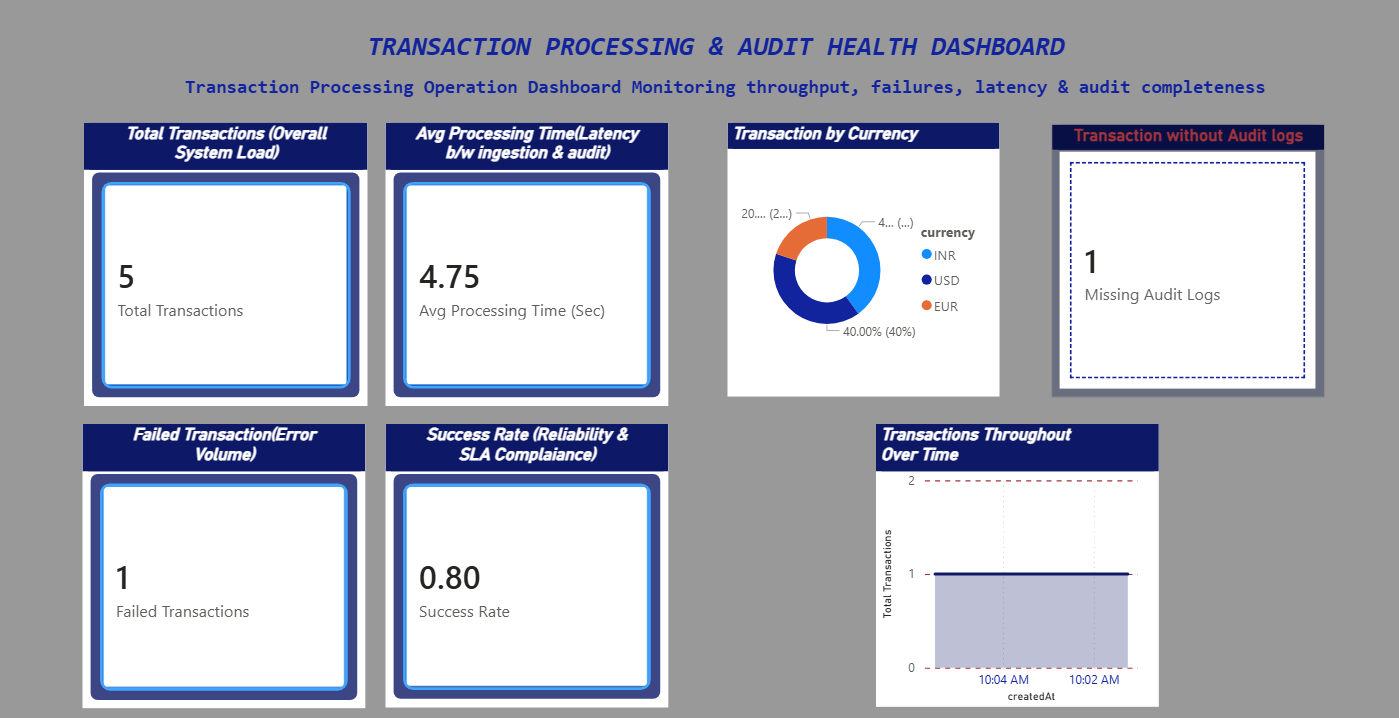

What the dashboard file says about the page in this screenshot:
{"tool":"powerbi","page":{"name":"Page 1","canvas":[1280,720],"ordinal":0},"visuals":[{"type":"lineChart","title":"Transactions Throughout Over Time","fields":{"Category":["transactions.createdAt"],"Y":["transactions.Total Transactions"]},"box":[797.8,420.5,279.4,279.4],"z":0},{"type":"cardVisual","title":"Total Transactions (Overall System Load)","fields":{"Data":["transactions.Total Transactions"]},"box":[14.4,122.9,280.3,280.3],"z":1000},{"type":"cardVisual","title":"Failed Transaction(Error Volume)       ","fields":{"Data":["transactions.Failed Transactions"]},"box":[14,421,279.7,280.7],"z":2000},{"type":"cardVisual","title":"Avg Processing Time(Latency b/w ingestion & audit)","fields":{"Data":["transactions.Avg Processing Time (Sec)"]},"box":[313,122.9,279.4,280.3],"z":3000},{"type":"cardVisual","title":"Success Rate (Reliability & SLA Complaiance)","fields":{"Data":["transactions.Success Rate"]},"box":[313,420.5,279.4,280.3],"z":4000},{"type":"donutChart","title":"Transaction by Currency","fields":{"Category":["transactions.currency"],"Y":["transactions.Total Transactions"]},"box":[649.9,122.9,268.8,270.7],"z":5000},{"type":"cardVisual","title":"Transaction without Audit logs","fields":{"Data":["transactions.Missing Audit Logs"]},"box":[970.9,124,269.8,269.8],"z":6000},{"type":"textbox","box":[58.6,26.9,1159.7,88.3],"z":7000},{"type":"textbox","box":[14.4,71,1256.6,51.8],"z":8000},{"type":"shape","box":[937.2,124,11.9,288.6],"z":10000}]}

Visuals, with their boxes in screenshot pixels (x1, y1, x2, y2):
"Transactions Throughout Over Time" lineChart: crop(857, 421, 1132, 695)
"Total Transactions (Overall System Load)" cardVisual: crop(87, 128, 363, 404)
"Failed Transaction(Error Volume)       " cardVisual: crop(87, 421, 362, 697)
"Avg Processing Time(Latency b/w ingestion & audit)" cardVisual: crop(381, 128, 655, 404)
"Success Rate (Reliability & SLA Complaiance)" cardVisual: crop(381, 421, 655, 696)
"Transaction by Currency" donutChart: crop(712, 128, 976, 394)
"Transaction without Audit logs" cardVisual: crop(1027, 129, 1293, 394)
textbox: crop(130, 34, 1271, 121)
textbox: crop(87, 77, 1322, 128)
shape: crop(994, 129, 1006, 413)
